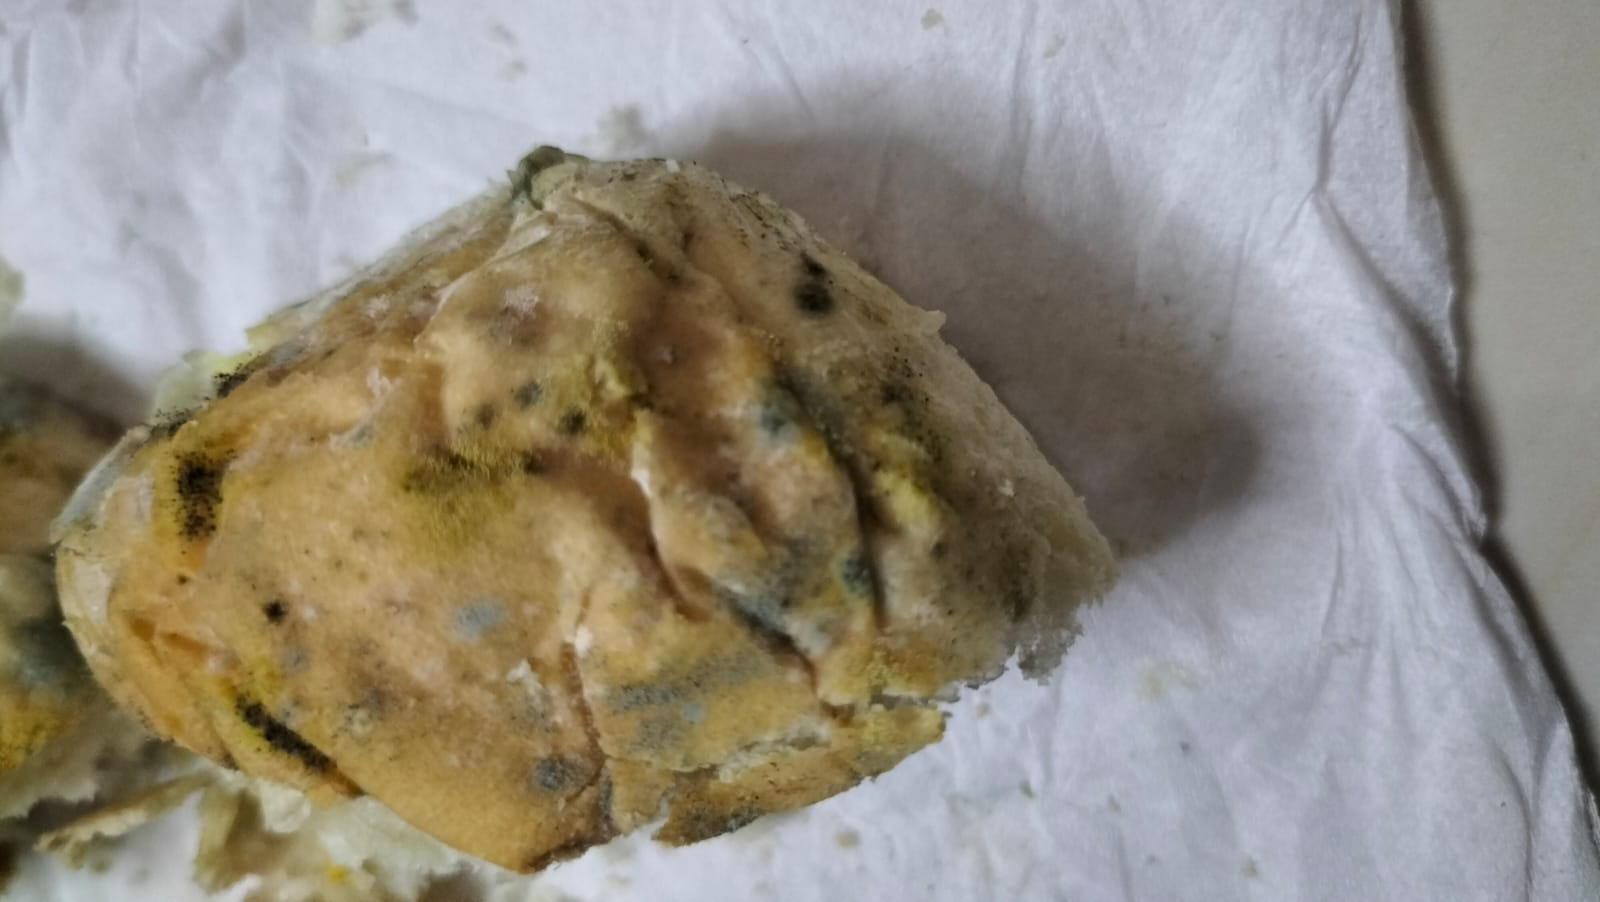mold_bread: (462, 374, 598, 479), (227, 683, 348, 793), (604, 657, 718, 757), (159, 439, 238, 563), (737, 369, 832, 465), (781, 240, 843, 333), (447, 589, 507, 643), (832, 542, 884, 602), (525, 748, 580, 793), (254, 592, 292, 628)
